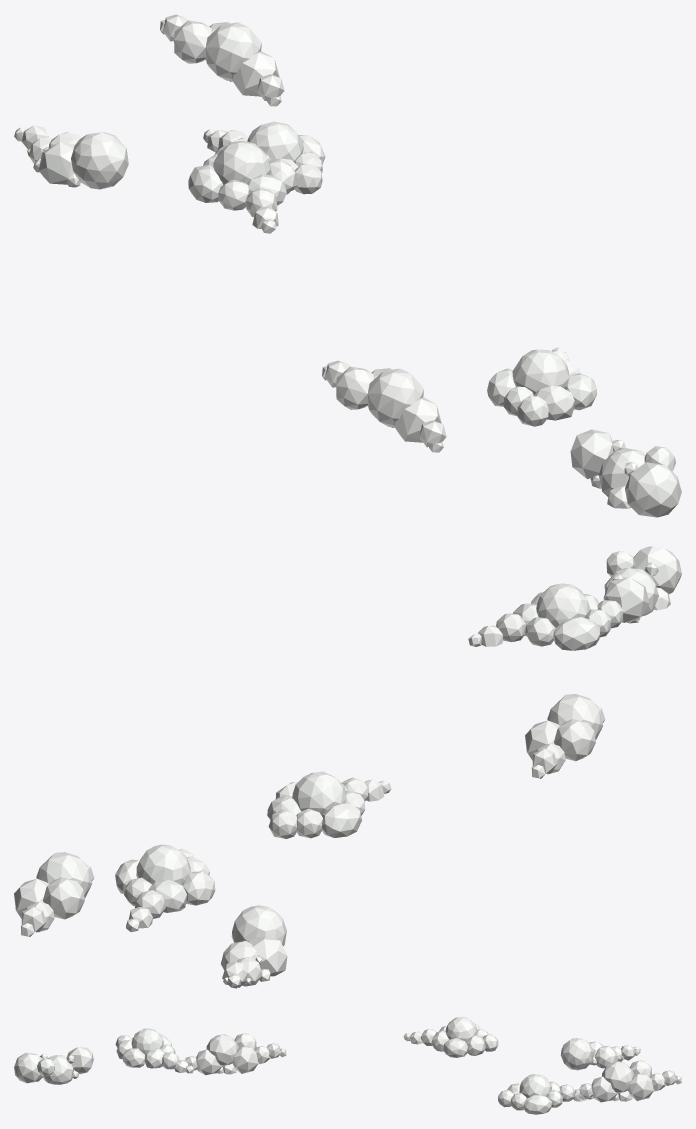
The model's file is cloud3.glb.
3 renders of one model, top to bottom at view 1: azimuth 30°, elevation 25°; view 2: azimuth 150°, elevation 25°; view 3: azimuth 270°, elevation 25°, orthographic. The views are drawn at different scales.
Visible parts, largest first — view 1: Sphere.005; view 2: Sphere.005; view 3: Sphere.005.
Part boxes in pixels (<box>): Sphere.005: <box>14,14,681,517</box>; Sphere.005: <box>14,546,681,988</box>; Sphere.005: <box>14,1017,681,1114</box>.
Size of the model in its own units: 10.21 by 4.48 by 40.77.
Materials: 1 (1 with a texture image).
